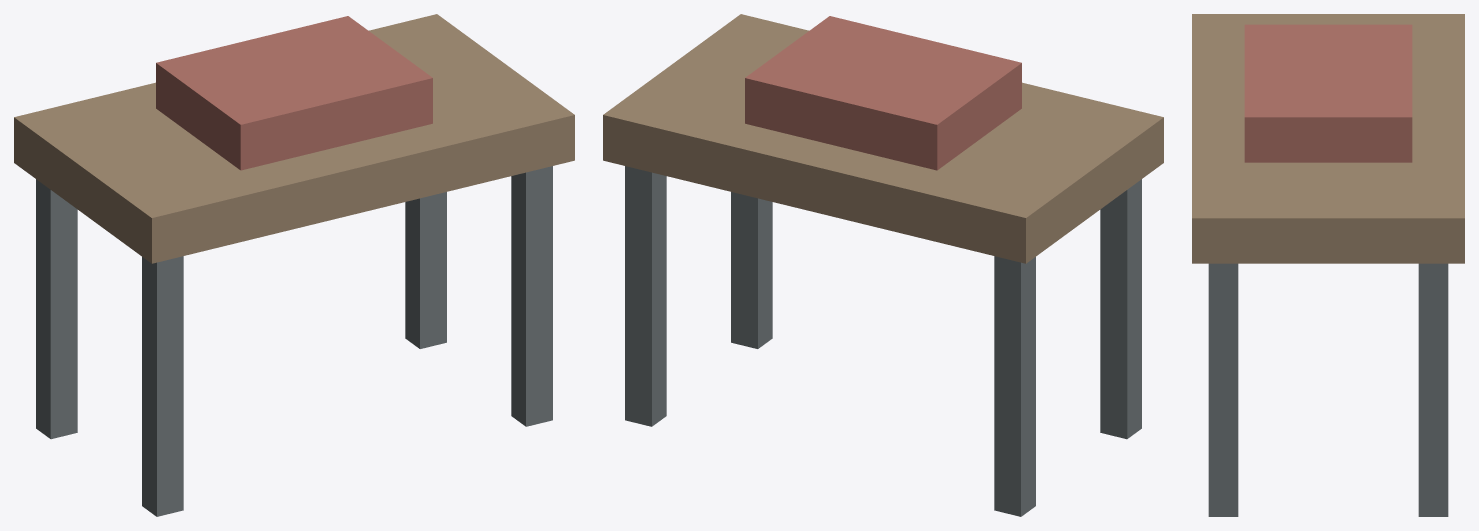
File: iz2_food_rocket_stove.glb
3 views of the same model, side by side, from view 1: azimuth 30°, elevation 25°; view 2: azimuth 150°, elevation 25°; view 3: azimuth 270°, elevation 25° (orthographic).
Visible parts, largest first — view 1: body; view 2: body; view 3: body.
Part boxes in pixels (box(x1,y1,x2,y2)): body: box(14, 14, 574, 516); body: box(603, 14, 1163, 516); body: box(1192, 14, 1464, 516).
Size of the model in its own units: 1.14 by 0.9091 by 0.6419.
